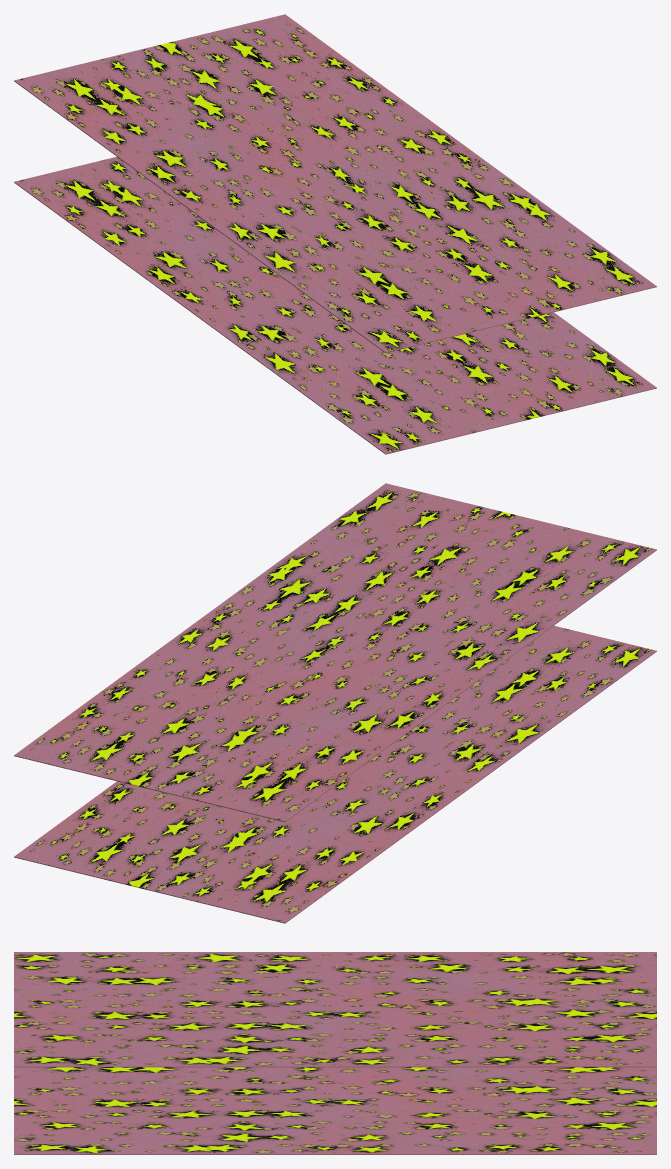
The model's file is sleeve.glb.
3 views of the same model, one above another, from view 1: azimuth 30°, elevation 25°; view 2: azimuth 150°, elevation 25°; view 3: azimuth 270°, elevation 25° (orthographic). The views are drawn at different scales.
Parts seen in each view (by area): view 1: Sleeve; view 2: Sleeve; view 3: Sleeve.
Part boxes in pixels (x1,y1,x2,y2): Sleeve: (14, 14, 656, 454); Sleeve: (14, 483, 656, 923); Sleeve: (14, 952, 656, 1154).
Bounding box in the file's own units: 3.51 × 1.26 × 8.33.
Materials: 1 (1 with a texture image).
